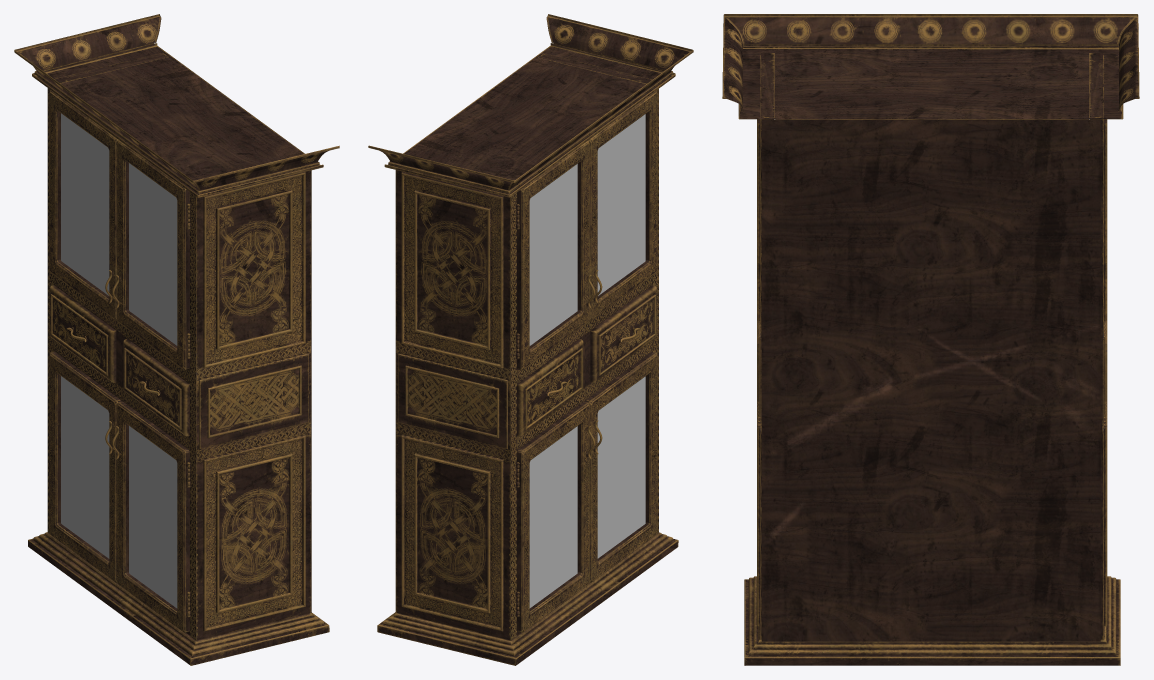
The model's file is SM_Vitrin2DoubleDoor.fbx.
3 renders of one model, left to right at view 1: azimuth 30°, elevation 25°; view 2: azimuth 150°, elevation 25°; view 3: azimuth 270°, elevation 25°, orthographic. The views are drawn at different scales.
Visible parts, largest first — view 1: SM_Vitrin2DoubleDoor_LOD0; view 2: SM_Vitrin2DoubleDoor_LOD0; view 3: SM_Vitrin2DoubleDoor_LOD0.
Boxes of the visible parts, <box> form: SM_Vitrin2DoubleDoor_LOD0: <box>14,14,339,665</box>; SM_Vitrin2DoubleDoor_LOD0: <box>368,14,693,665</box>; SM_Vitrin2DoubleDoor_LOD0: <box>722,14,1139,665</box>.
Bounding box in the file's own units: 76.06 × 163 × 246.
Materials: 2 (1 with a texture image).
